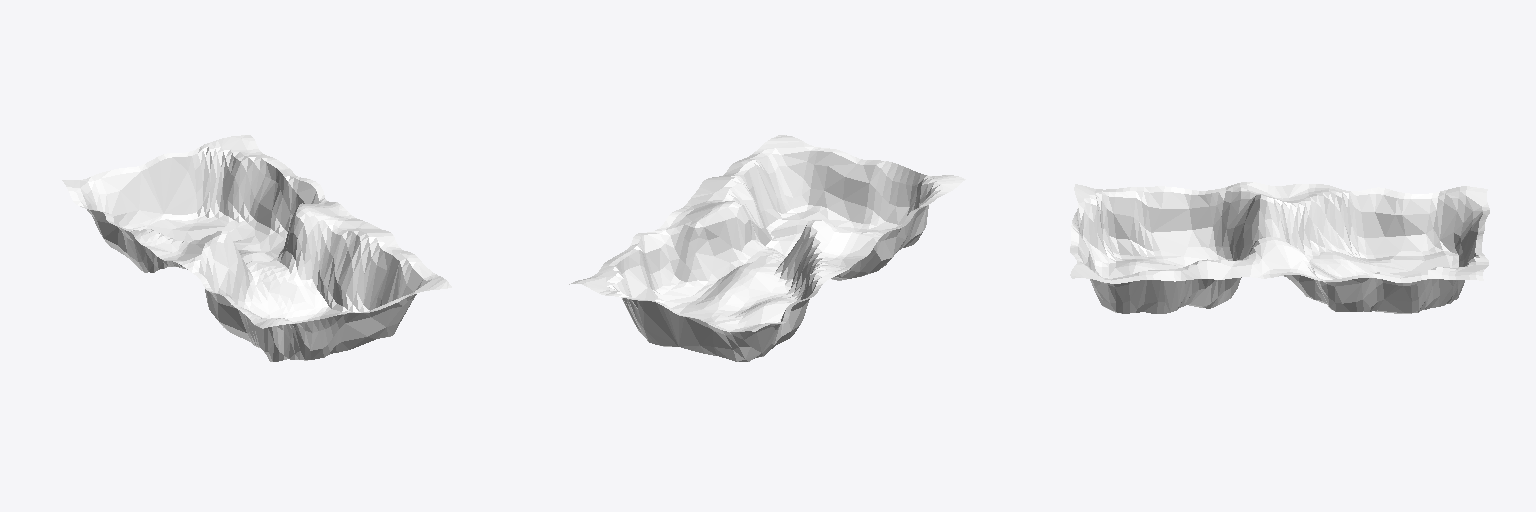
File: mpmap2.obj
3 renders of one model, left to right at view 1: azimuth 30°, elevation 25°; view 2: azimuth 150°, elevation 25°; view 3: azimuth 270°, elevation 25°, orthographic.
Visible parts, largest first — view 1: Plane01; view 2: Plane01; view 3: Plane01.
Boxes of the visible parts, <box> form: Plane01: <box>62,135,451,361</box>; Plane01: <box>569,135,965,361</box>; Plane01: <box>1070,182,1489,313</box>.
Bounding box in the file's own units: 307 × 117 × 564.